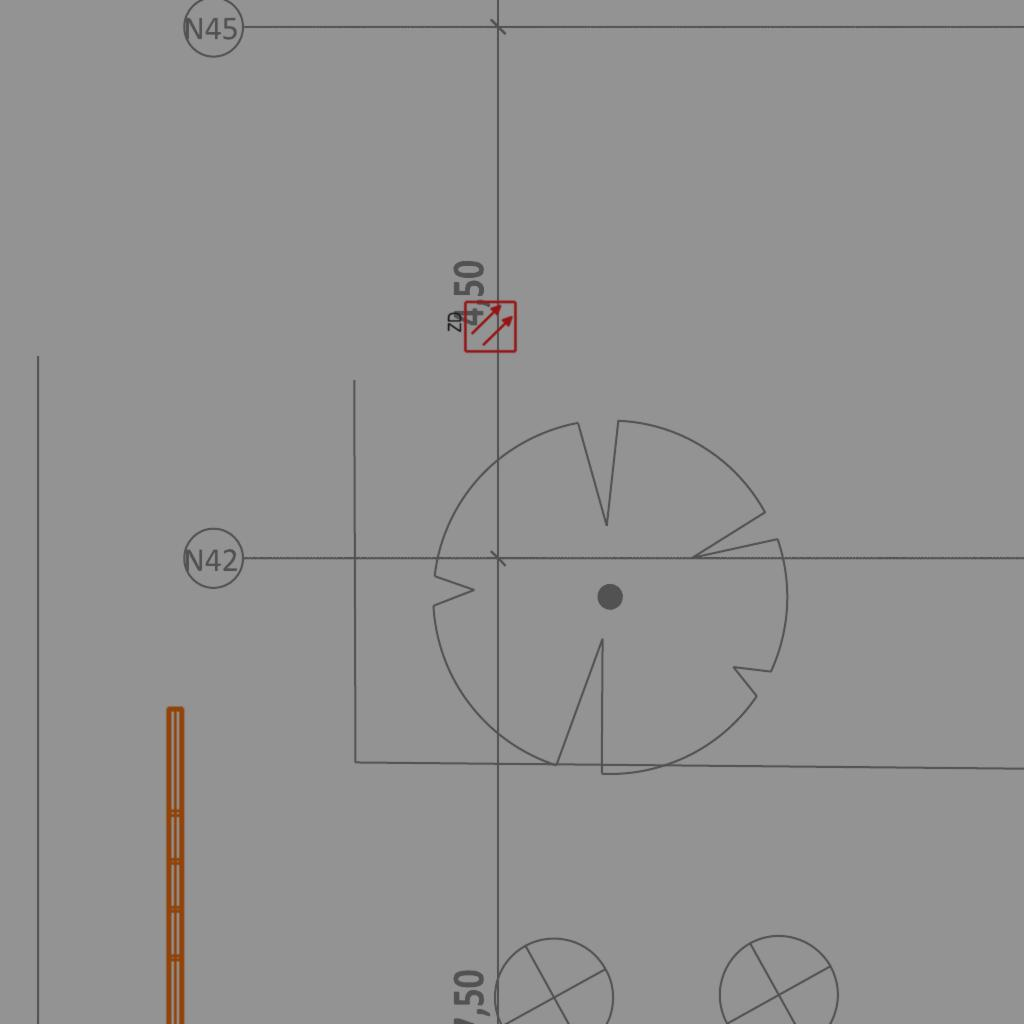Ambulanz_Pendelleuchte_LED: (160, 701, 216, 1024)
ZD_Melder_in_Zwischendecke_mit_Revisionsoeffnung_mind_40_x_40_cm: (444, 299, 518, 356)
